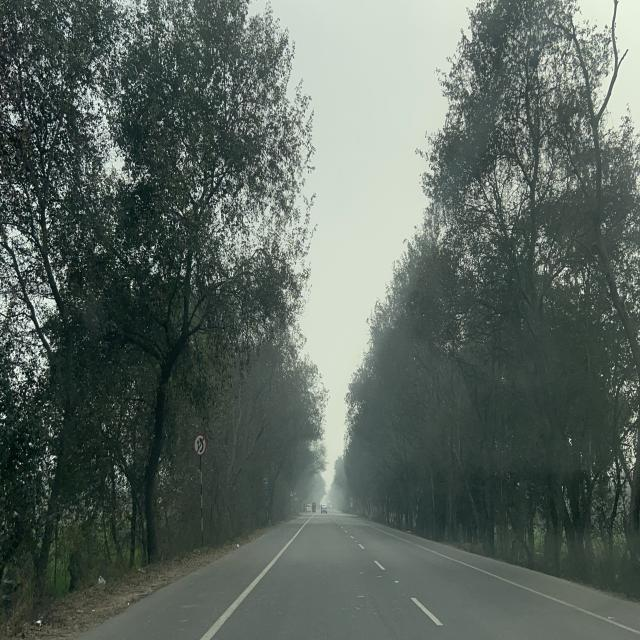OVERTAKING_PROHIBITED: (193, 433, 207, 456)
